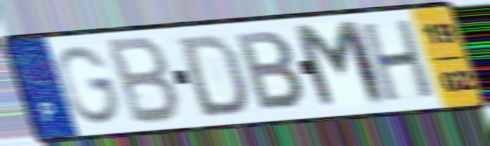B: (104, 34, 183, 127), (232, 29, 310, 113)
D: (177, 31, 251, 120)
G: (54, 44, 124, 127)
H: (360, 16, 438, 106)
M: (288, 17, 394, 113)
